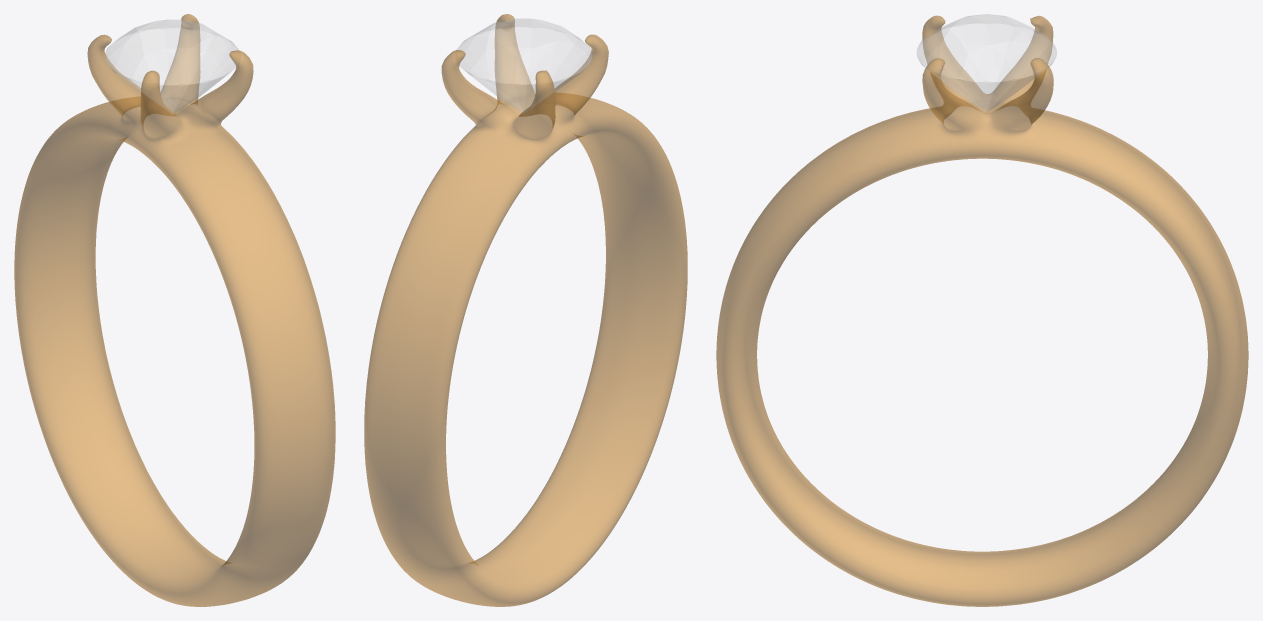
3 views of the same model, side by side, from view 1: azimuth 30°, elevation 25°; view 2: azimuth 150°, elevation 25°; view 3: azimuth 270°, elevation 25° (orthographic). The views are drawn at different scales.
Visible parts, largest first — view 1: VR105; view 2: VR105; view 3: VR105.
Boxes of the visible parts, box(x1,y1,x2,y2) form: VR105: box(14, 14, 335, 606); VR105: box(364, 14, 687, 606); VR105: box(716, 14, 1248, 606).
Size of the model in its own units: 0.6116 by 2.72 by 2.32.
